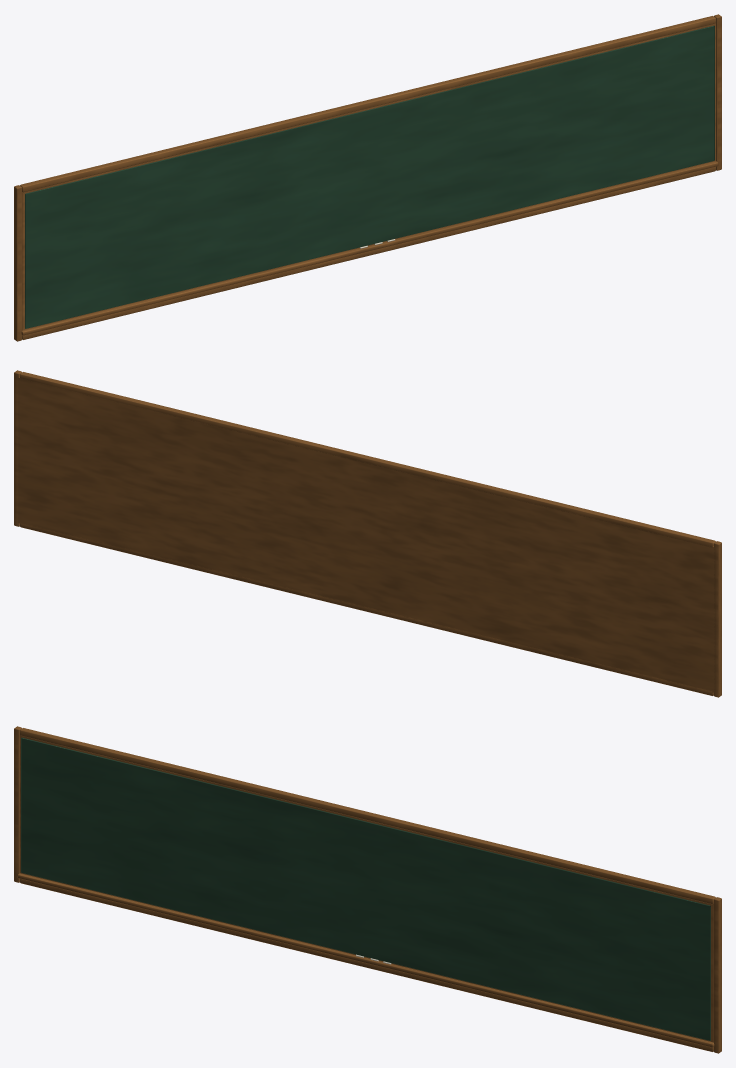
Rendered from Furn_Blackboard.fbx.
3 renders of one model, top to bottom at view 1: azimuth 30°, elevation 25°; view 2: azimuth 150°, elevation 25°; view 3: azimuth 330°, elevation 25°, orthographic.
Visible parts, largest first — view 1: Furn_Blackboard_Mesh; view 2: Furn_Blackboard_Mesh; view 3: Furn_Blackboard_Mesh.
Boxes of the visible parts, x1,y1,x2,y2 form: Furn_Blackboard_Mesh: (14,14,721,341); Furn_Blackboard_Mesh: (14,370,721,697); Furn_Blackboard_Mesh: (14,726,721,1053).
Bounding box in the file's own units: 7.2 × 1.5 × 0.08.
3 materials, 3 textured.
